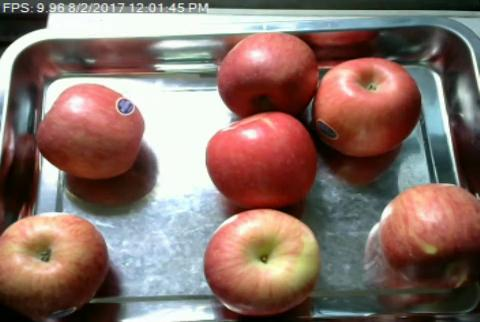apple: (204, 209, 320, 316), (1, 216, 106, 318), (379, 184, 480, 290), (313, 58, 421, 155), (207, 115, 316, 208), (39, 85, 143, 178), (217, 33, 316, 117)
